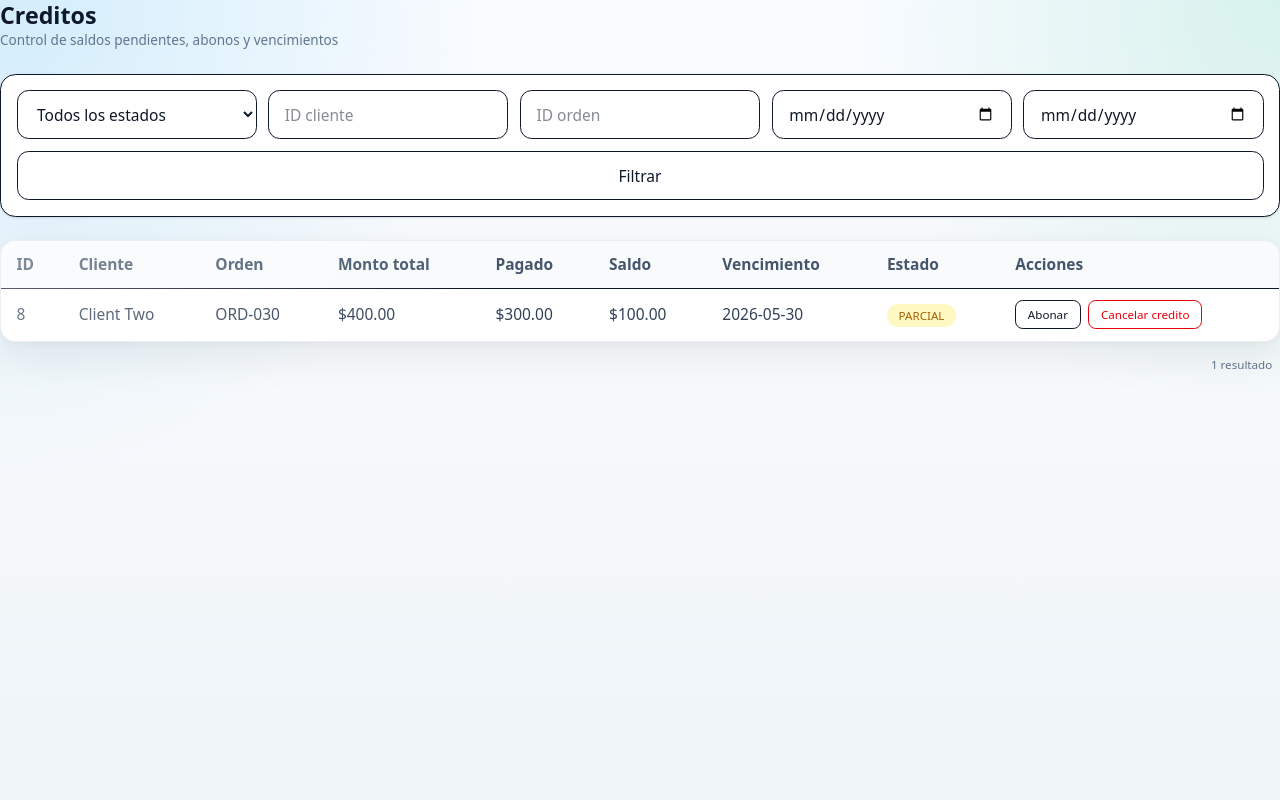
Scenario: CreditosPage › bloquea abonos mayores al saldo pendiente
Check: the text "Client Two" is shown, box [63,288,200,341]
Click the button "Abonar". click: {"x": 1048, "y": 315}
box: [1015,300,1080,329]
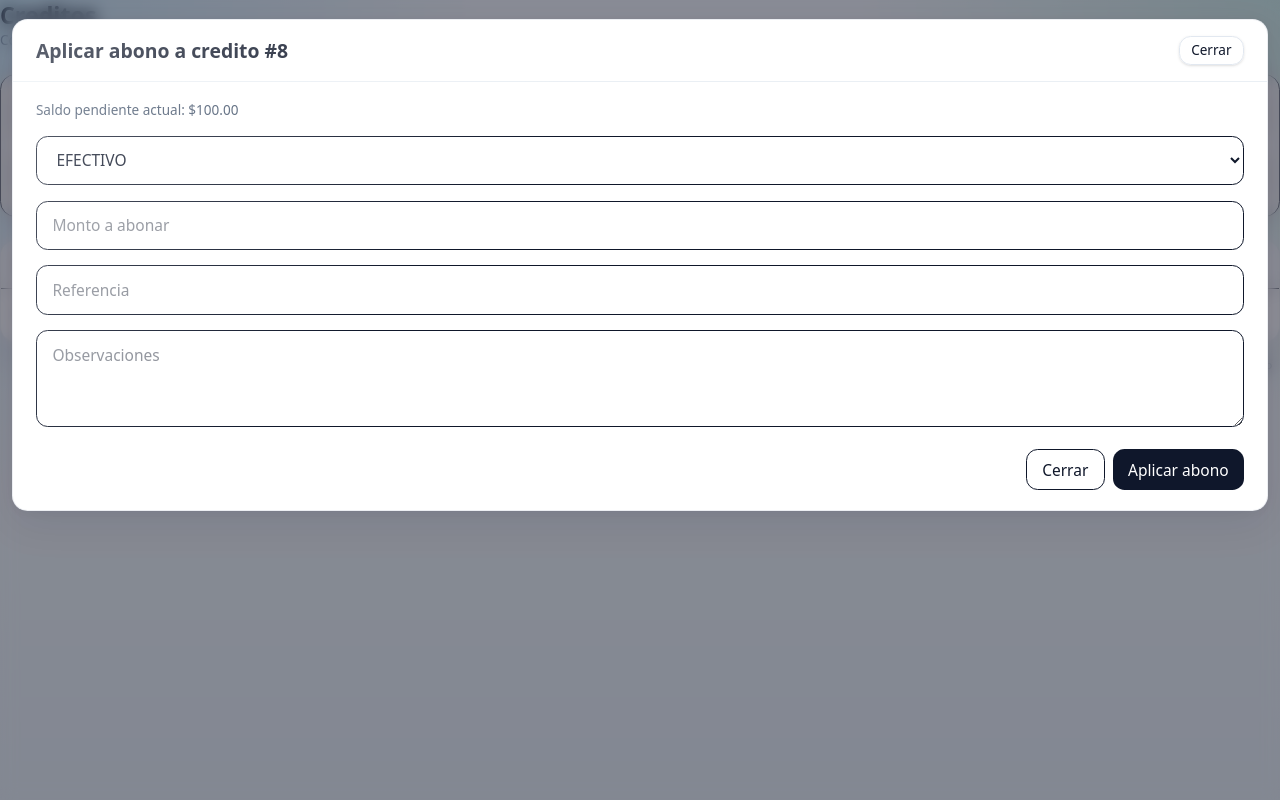
Type "150" into the number field with placeholder "Monto a abonar". click: {"x": 640, "y": 225}
box: [36,200,1244,250]
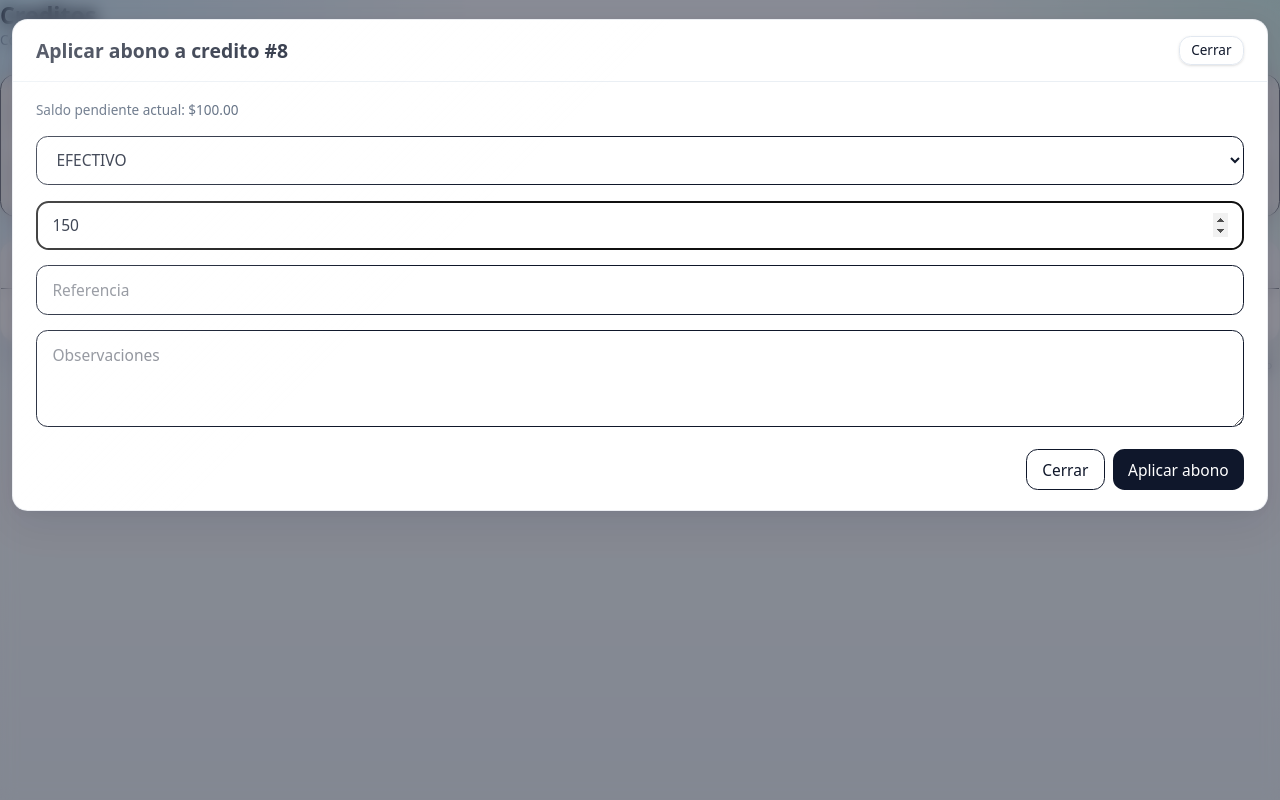
Click the button "Aplicar abono". click: {"x": 1178, "y": 470}
box: [1112,449,1244,490]
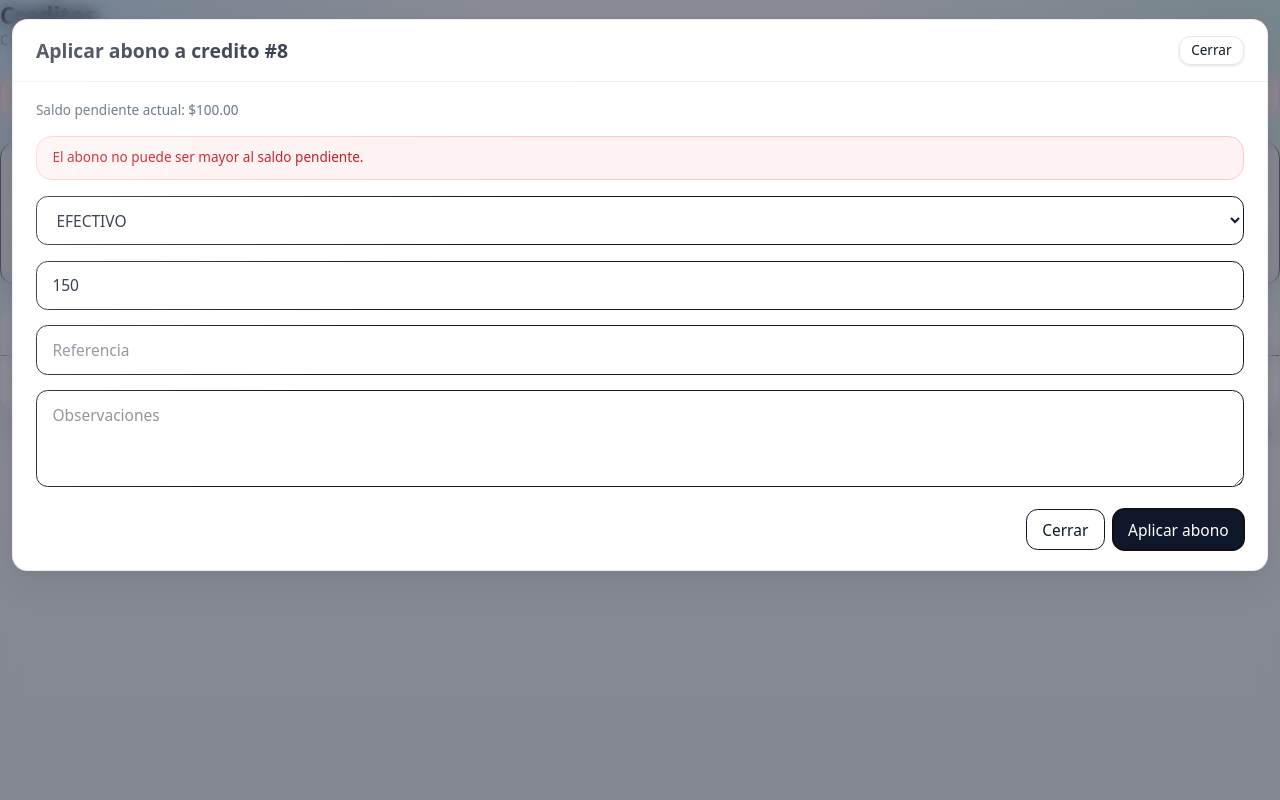
Check: the 1st text "El abono no puede ser mayor al saldo pendiente." is shown, box [0,74,1279,118]
